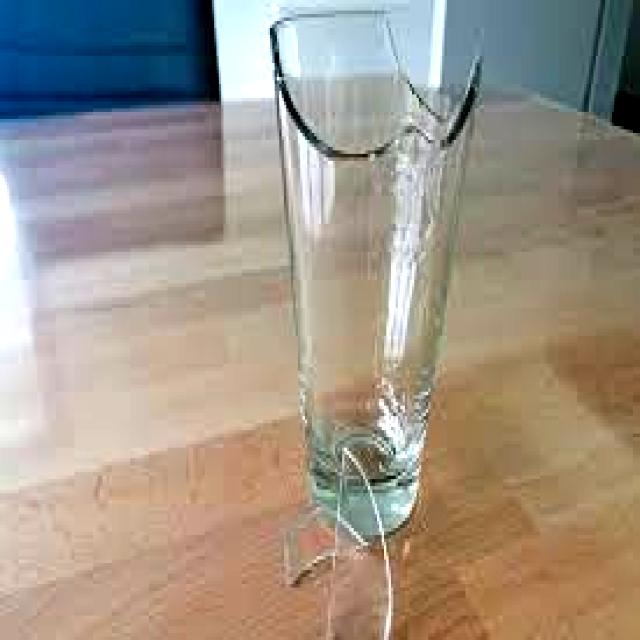Glass: (267, 7, 484, 542)
